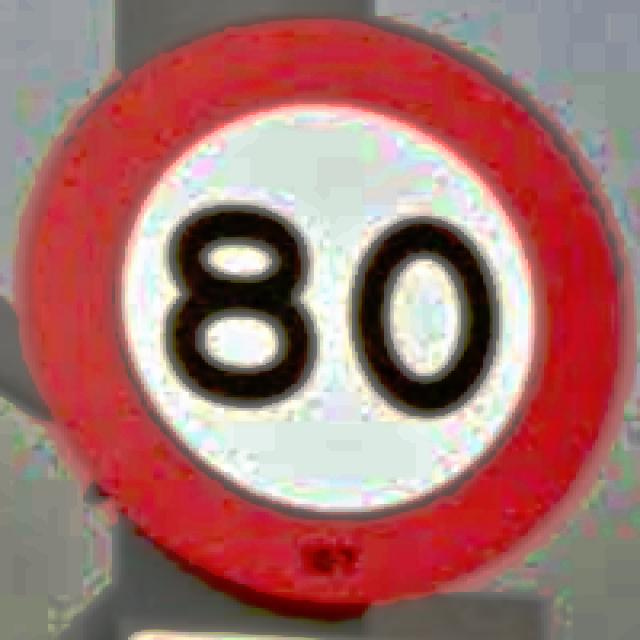max80: (16, 8, 627, 611)
